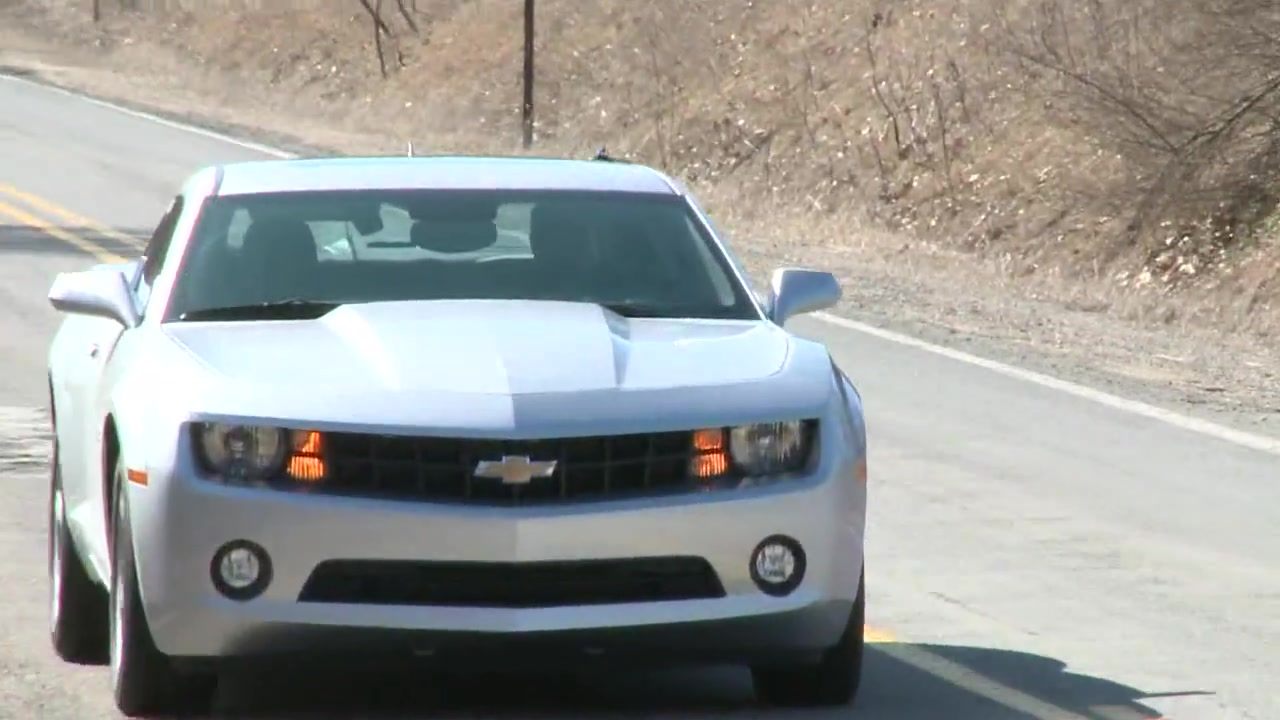car: (49, 148, 871, 720)
